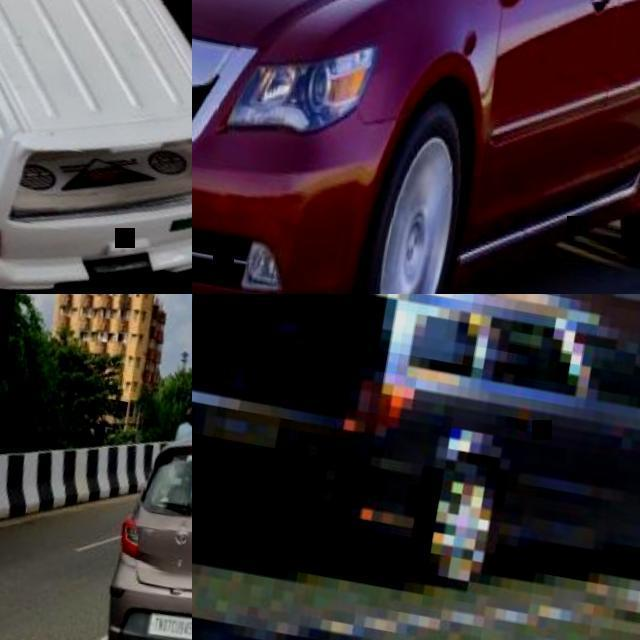car: (352, 289, 639, 590), (0, 0, 191, 279), (112, 417, 192, 639)
